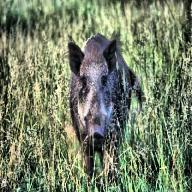boar: (50, 33, 164, 173)
